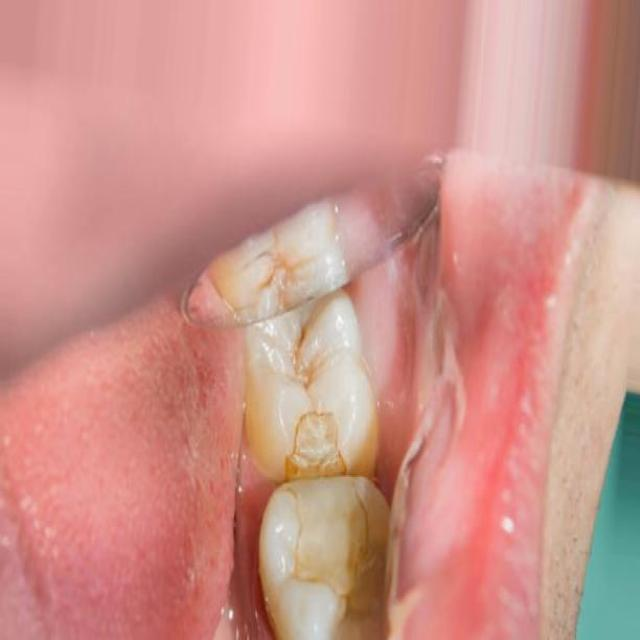caries: (264, 387, 391, 613)
